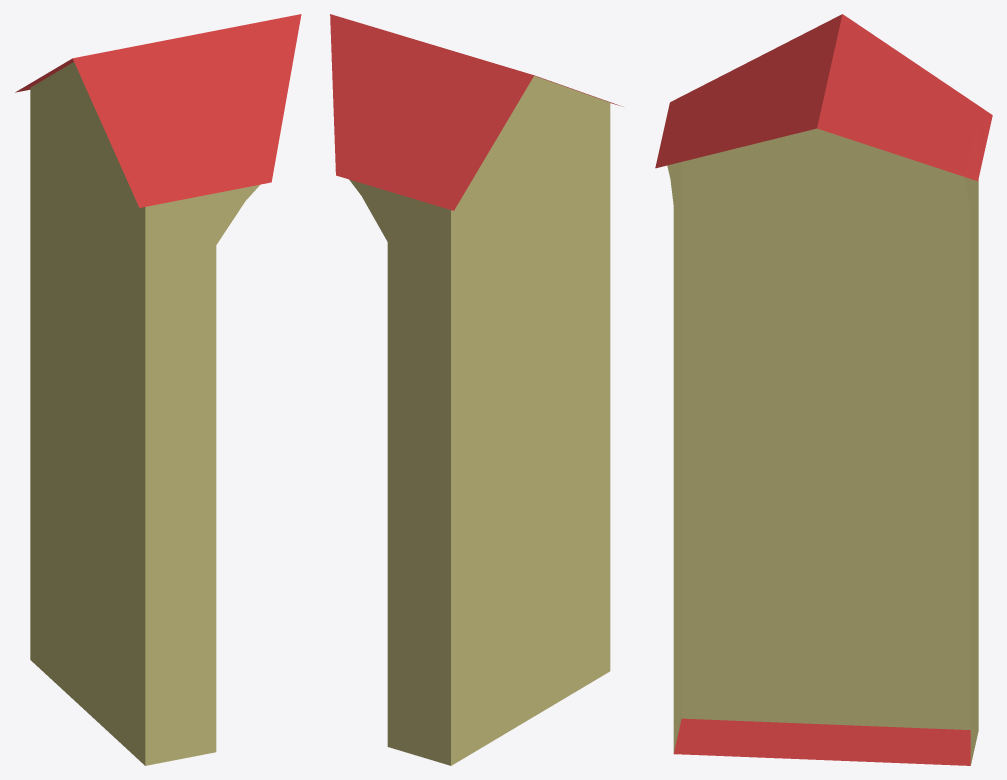
The picture shows the model from 3 angles, left to right: view 1: azimuth 30°, elevation 25°; view 2: azimuth 150°, elevation 25°; view 3: azimuth 270°, elevation 25°; orthographic projection. The views are drawn at different scales.
Bounding box in the file's own units: 5.55 × 6.53 × 15.05.
